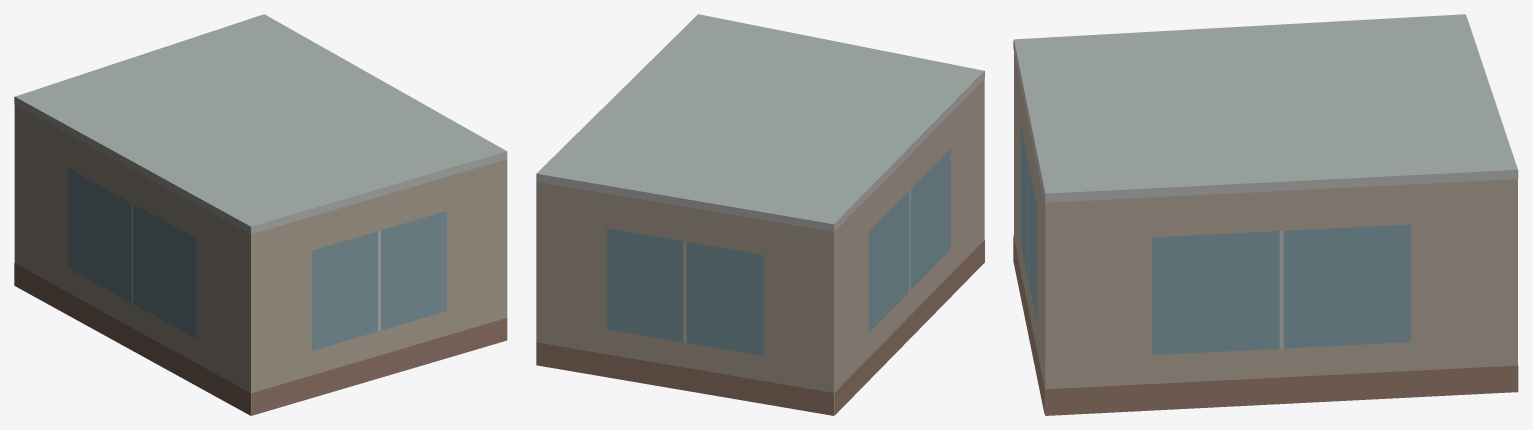
The model's file is survey-upis-32805907.glb.
The picture shows the model from 3 angles, left to right: view 1: azimuth 30°, elevation 25°; view 2: azimuth 150°, elevation 25°; view 3: azimuth 270°, elevation 25°; orthographic projection. The views are drawn at different scales.
Visible parts, largest first — view 1: survey-upis-32805907.tmp; view 2: survey-upis-32805907.tmp; view 3: survey-upis-32805907.tmp.
Part boxes in pixels (x1=…): survey-upis-32805907.tmp: x1=14, y1=14, x2=507, y2=415; survey-upis-32805907.tmp: x1=536, y1=14, x2=984, y2=415; survey-upis-32805907.tmp: x1=1013, y1=14, x2=1518, y2=415.
Size of the model in its own units: 5.3 by 3.05 by 6.29.
